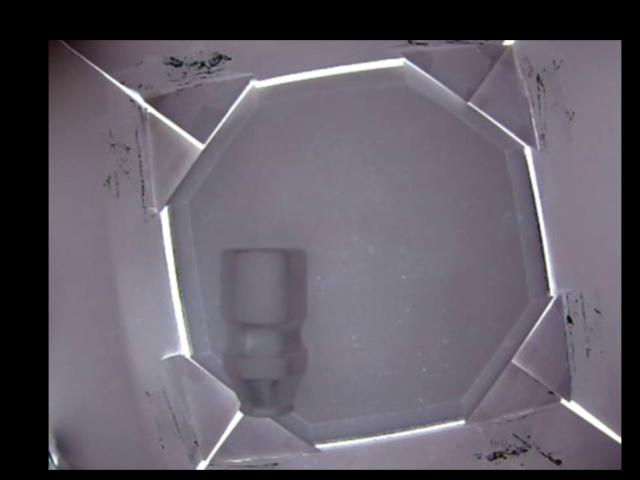Bottle: (218, 246, 309, 415)
